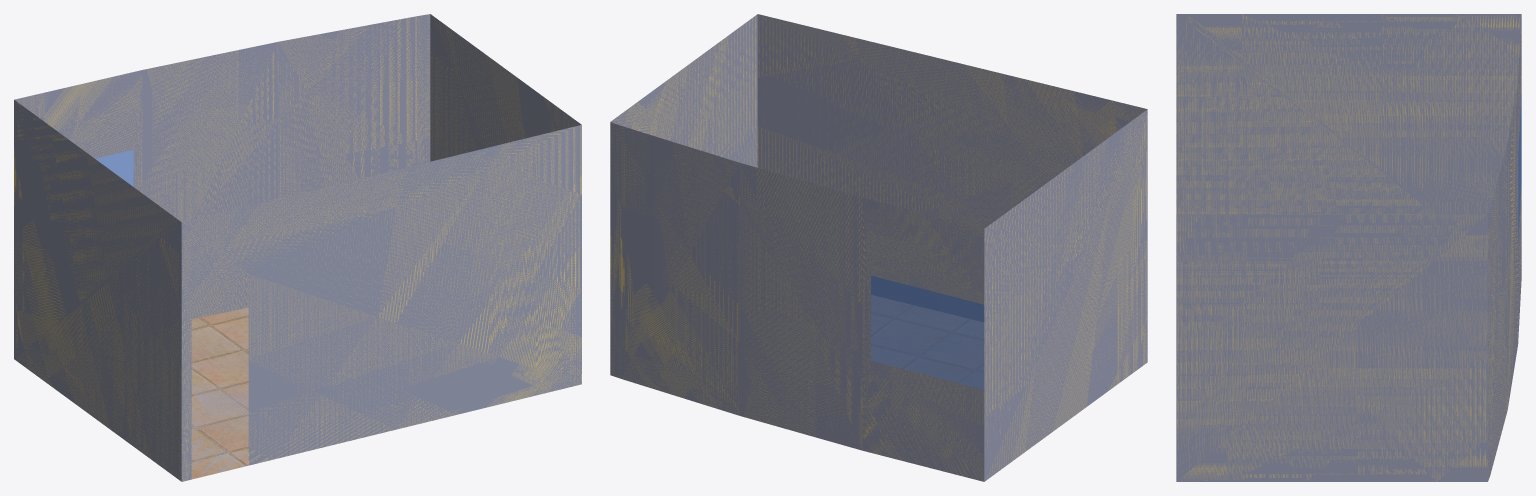
The model's file is LAB024.obj.
3 views of the same model, side by side, from view 1: azimuth 30°, elevation 25°; view 2: azimuth 150°, elevation 25°; view 3: azimuth 270°, elevation 25° (orthographic). The views are drawn at different scales.
Visible parts, largest first — view 1: Mesh1 DES024 Model; view 2: Mesh1 DES024 Model; view 3: Mesh1 DES024 Model.
Part boxes in pixels (x1,y1,x2,y2): Mesh1 DES024 Model: (14,14,581,481); Mesh1 DES024 Model: (610,14,1147,481); Mesh1 DES024 Model: (1176,14,1521,481).
Size of the model in its own units: 4.84 by 3 by 3.52.
Materials: 4 (1 with a texture image).
